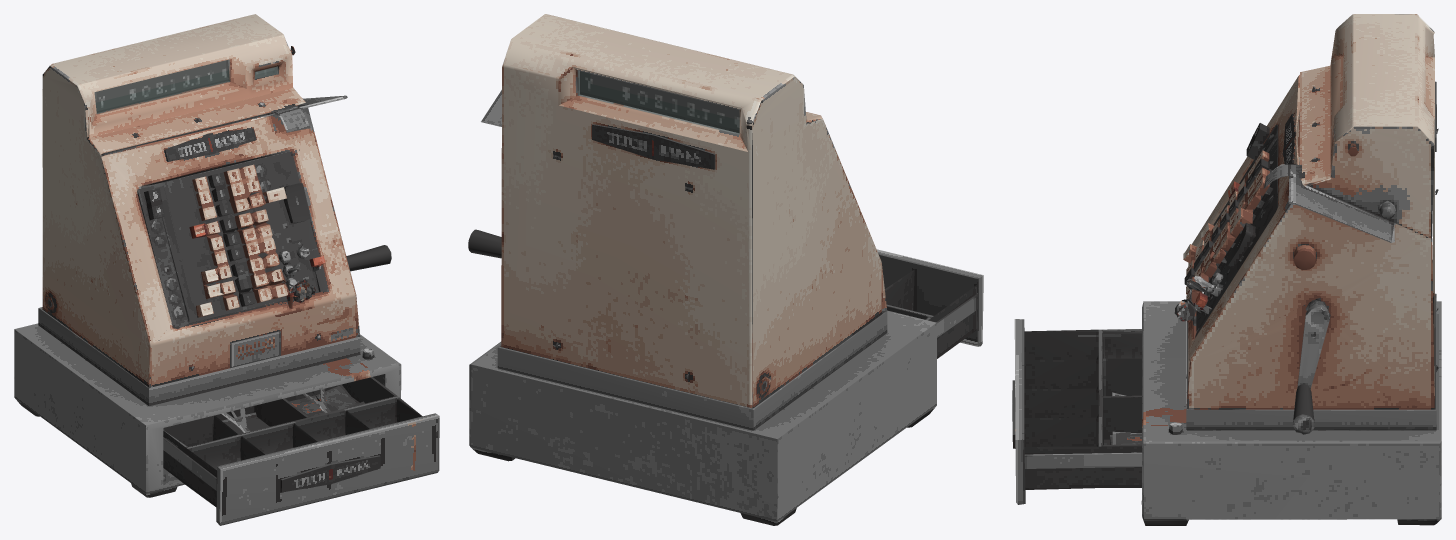
The model's file is CashRegister_01.glb.
3 renders of one model, left to right at view 1: azimuth 30°, elevation 25°; view 2: azimuth 150°, elevation 25°; view 3: azimuth 270°, elevation 25°, orthographic. The views are drawn at different scales.
Visible parts, largest first — view 1: body, glass; view 2: body, glass; view 3: body.
Part boxes in pixels (<box>): body: <box>14,14,439,525</box>; glass: <box>95,59,277,113</box>; body: <box>468,14,983,525</box>; glass: <box>578,71,739,134</box>; body: <box>1012,14,1441,525</box>.
Bounding box in the file's own units: 0.5965 × 0.6214 × 0.6244.
Materials: 2 (2 with a texture image).
